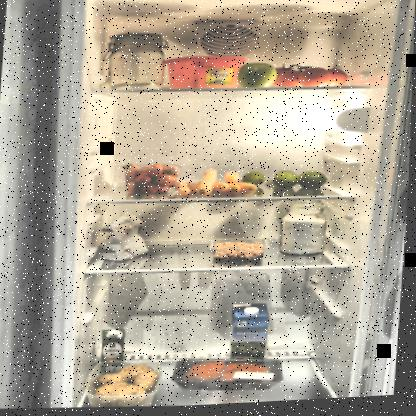apple: (235, 61, 280, 94)
beef: (172, 355, 290, 397)
butter: (161, 55, 250, 94)
carrot: (174, 167, 263, 202)
heavy_cream: (102, 329, 128, 376)
lime: (242, 170, 330, 197)
milk: (231, 304, 275, 371)
potato: (87, 357, 166, 410)
shrimp: (213, 240, 269, 265)
strawberries: (124, 161, 183, 199)
tomato: (271, 61, 351, 95)
